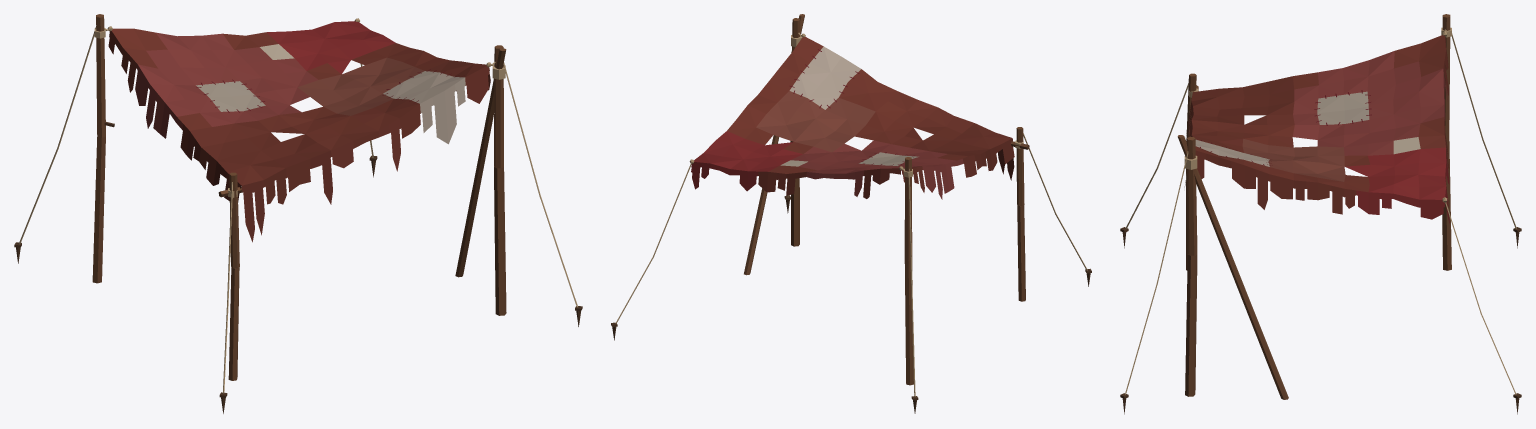
Rendered from tl_furn_tarp_shelter_v01.glb.
3 renders of one model, left to right at view 1: azimuth 30°, elevation 25°; view 2: azimuth 150°, elevation 25°; view 3: azimuth 270°, elevation 25°, orthographic. The views are drawn at different scales.
Parts seen in each view (by area): view 1: tl_furn_tarp_shelter_v01; view 2: tl_furn_tarp_shelter_v01; view 3: tl_furn_tarp_shelter_v01.
Boxes of the visible parts, x1=… form: tl_furn_tarp_shelter_v01: x1=14, y1=14, x2=582, y2=413; tl_furn_tarp_shelter_v01: x1=611, y1=14, x2=1091, y2=413; tl_furn_tarp_shelter_v01: x1=1120, y1=14, x2=1521, y2=414.
Size of the model in its own units: 4.7 by 3.32 by 4.7.
